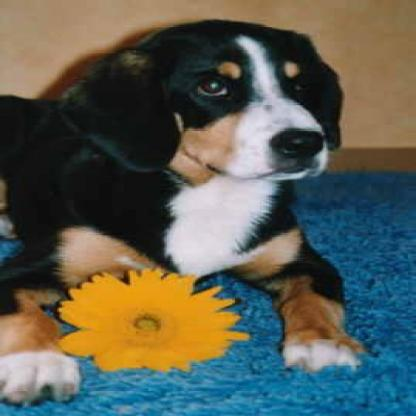EntleBucher: (0, 19, 362, 402)
